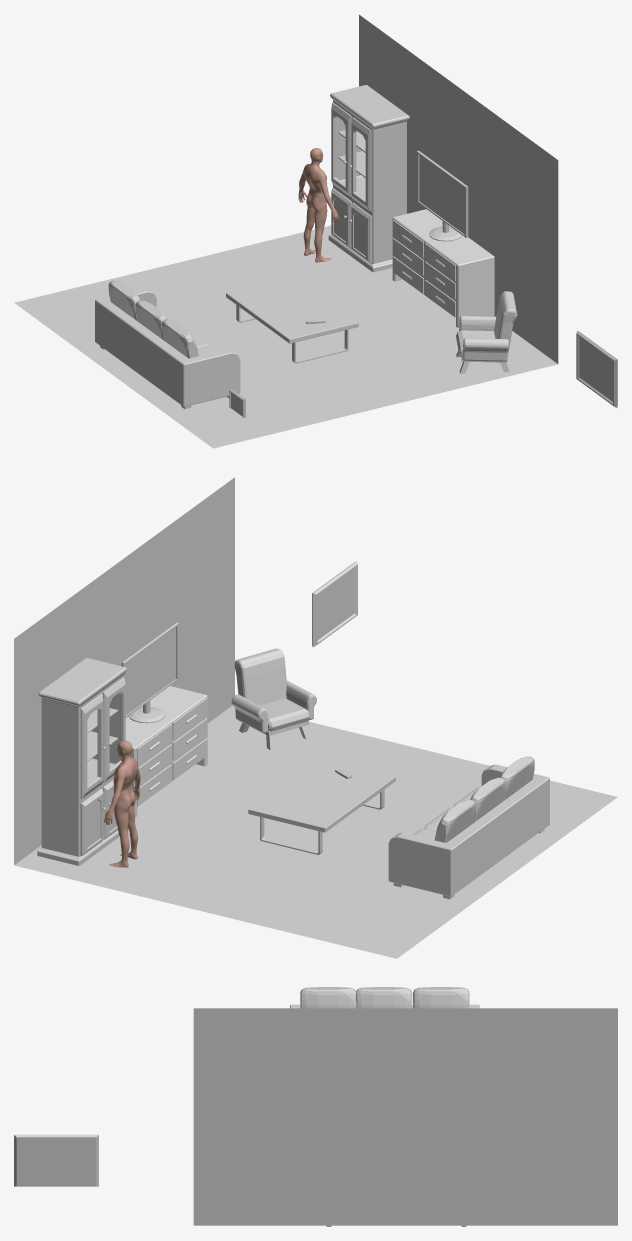
Rendered from Painting_Small.fbx.
3 renders of one model, top to bottom at view 1: azimuth 30°, elevation 25°; view 2: azimuth 150°, elevation 25°; view 3: azimuth 270°, elevation 25°, orthographic. The views are drawn at different scales.
Visible parts, largest first — view 1: Cube.009, Cube.012, Cube.019, Cube.002, Cube, Cube.036, Cube.004, HumanBody:humanBody, Cube.030, Cube.016, Cube.062, Cube.022 (+4 smaller); view 2: Cube.009, Cube.012, Cube.019, Cube.002, Cube.036, Cube.004, Cube, HumanBody:humanBody, Cube.030, Cube.062, Cube.013, Cube.016 (+7 smaller); view 3: Cube.009, Cube.030, Cube.020, Cube.023, Cube.021.
Part boxes in pixels (left/top/right/bottom): Cube.009: left=14, top=14, right=558, bottom=448; Cube.012: left=328, top=85, right=409, bottom=272; Cube.019: left=95, top=287, right=240, bottom=409; Cube.002: left=226, top=276, right=358, bottom=363; Cube: left=392, top=209, right=494, bottom=327; Cube.036: left=456, top=291, right=517, bottom=373; Cube.004: left=417, top=150, right=468, bottom=237; HumanBody:humanBody: left=298, top=148, right=339, bottom=262; Cube.030: left=576, top=330, right=617, bottom=407; Cube.016: left=349, top=117, right=371, bottom=211; Cube.062: left=331, top=102, right=351, bottom=197; Cube.022: left=349, top=202, right=371, bottom=263; Cube.009: left=14, top=477, right=617, bottom=958; Cube.012: left=37, top=658, right=128, bottom=865; Cube.019: left=388, top=764, right=549, bottom=899; Cube.002: left=248, top=758, right=395, bottom=854; Cube.036: left=231, top=648, right=316, bottom=749; Cube.004: left=121, top=622, right=178, bottom=717; Cube: left=125, top=686, right=207, bottom=817; HumanBody:humanBody: left=104, top=740, right=140, bottom=867; Cube.030: left=312, top=561, right=357, bottom=647; Cube.062: left=80, top=693, right=105, bottom=798; Cube.013: left=80, top=788, right=105, bottom=855; Cube.016: left=103, top=677, right=125, bottom=782; Cube.009: left=193, top=1008, right=617, bottom=1225; Cube.030: left=14, top=1134, right=98, bottom=1186; Cube.020: left=413, top=987, right=469, bottom=1008; Cube.023: left=356, top=987, right=412, bottom=1008; Cube.021: left=300, top=987, right=356, bottom=1008.
Size of the model in its own units: 601 by 371 by 855.
